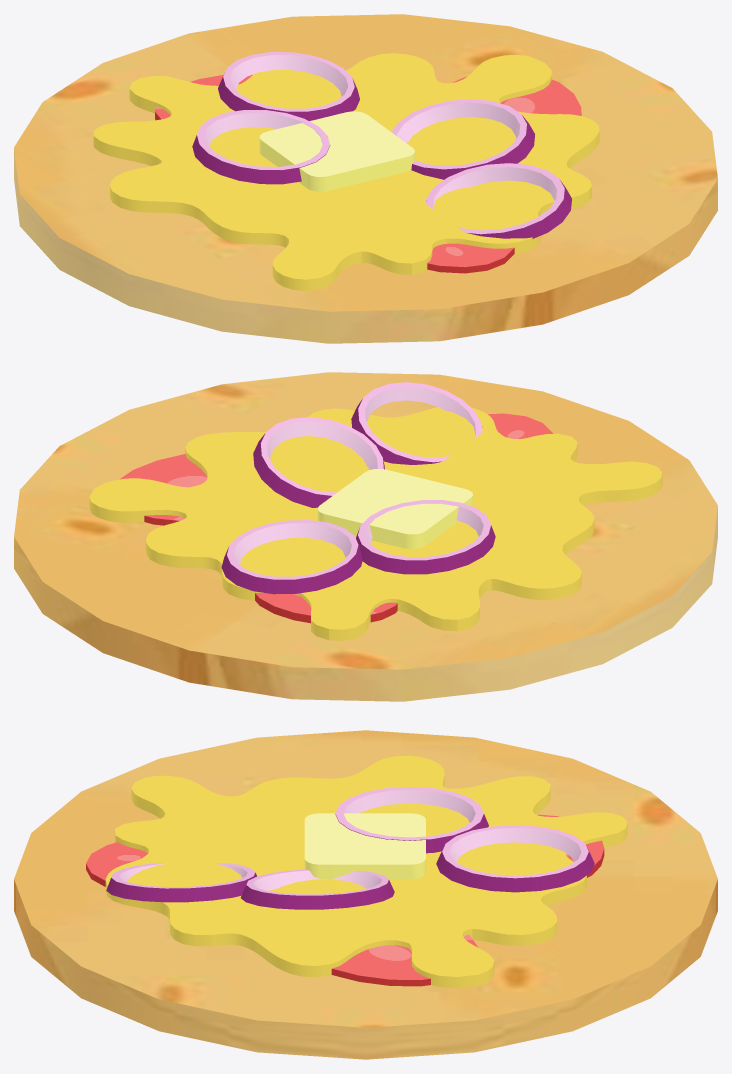
The model's file is taco_Carne_Cebolla_Salsa.glb.
3 renders of one model, top to bottom at view 1: azimuth 30°, elevation 25°; view 2: azimuth 150°, elevation 25°; view 3: azimuth 270°, elevation 25°, orthographic.
Visible parts, largest first — view 1: tortilla.002, Melted_Butter_Butter_0, Onion_Slice_Onion_0, Onion_Slice_Onion_0.001, Ham_Slice_Ham_0.002; view 2: tortilla.002, Melted_Butter_Butter_0, Onion_Slice_Onion_0, Onion_Slice_Onion_0.001, Ham_Slice_Ham_0.002; view 3: tortilla.002, Melted_Butter_Butter_0, Onion_Slice_Onion_0, Onion_Slice_Onion_0.001, Ham_Slice_Ham_0.002.
Boxes of the visible parts, box(x1,y1,x2,y2) form: tortilla.002: box(14, 14, 717, 343); Melted_Butter_Butter_0: box(93, 53, 599, 290); Onion_Slice_Onion_0: box(192, 52, 359, 184); Onion_Slice_Onion_0.001: box(391, 99, 571, 238); Ham_Slice_Ham_0.002: box(155, 74, 581, 273); tortilla.002: box(14, 372, 717, 701); Melted_Butter_Butter_0: box(89, 407, 662, 640); Onion_Slice_Onion_0: box(221, 500, 495, 594); Onion_Slice_Onion_0.001: box(253, 382, 482, 507); Ham_Slice_Ham_0.002: box(120, 413, 552, 623); tortilla.002: box(14, 730, 717, 1059); Melted_Butter_Butter_0: box(105, 755, 627, 988); Onion_Slice_Onion_0: box(335, 786, 594, 892); Onion_Slice_Onion_0.001: box(106, 863, 394, 909); Ham_Slice_Ham_0.002: box(86, 814, 604, 986).
Bounding box in the file's own units: 0.2118 × 0.0248 × 0.2118.
4 materials, 4 textured.
